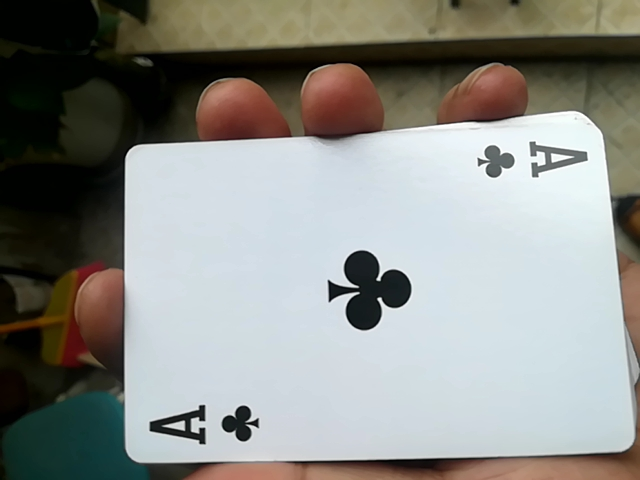mh a: (108, 121, 631, 479)
